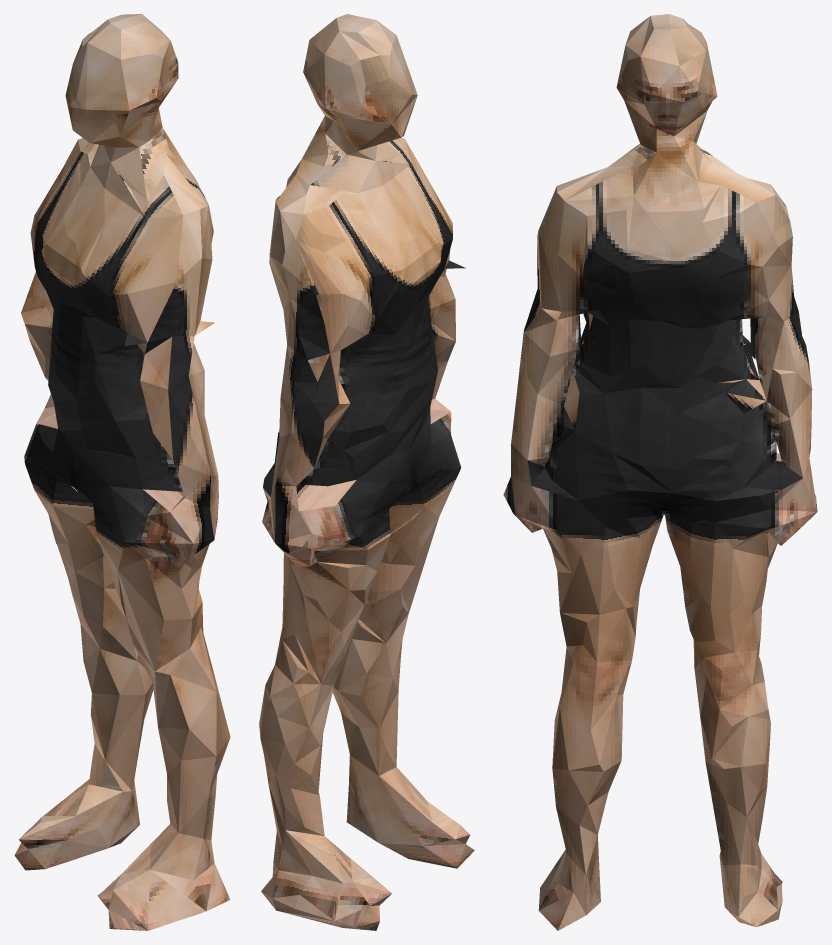
Rendered from personaje.base.cuerpo_mujer_2.glb.
3 views of the same model, side by side, from view 1: azimuth 30°, elevation 25°; view 2: azimuth 150°, elevation 25°; view 3: azimuth 270°, elevation 25° (orthographic). The views are drawn at different scales.
Visible parts, largest first — view 1: personaje.base.cuerpo_mujer_2; view 2: personaje.base.cuerpo_mujer_2; view 3: personaje.base.cuerpo_mujer_2.
Boxes of the visible parts, left/top/right/bottom form: personaje.base.cuerpo_mujer_2: left=14, top=14, right=230, bottom=930; personaje.base.cuerpo_mujer_2: left=259, top=14, right=474, bottom=930; personaje.base.cuerpo_mujer_2: left=503, top=14, right=817, bottom=930.
Bounding box in the file's own units: 0.2571 × 1.6 × 0.5084.
Materials: 1 (1 with a texture image).
